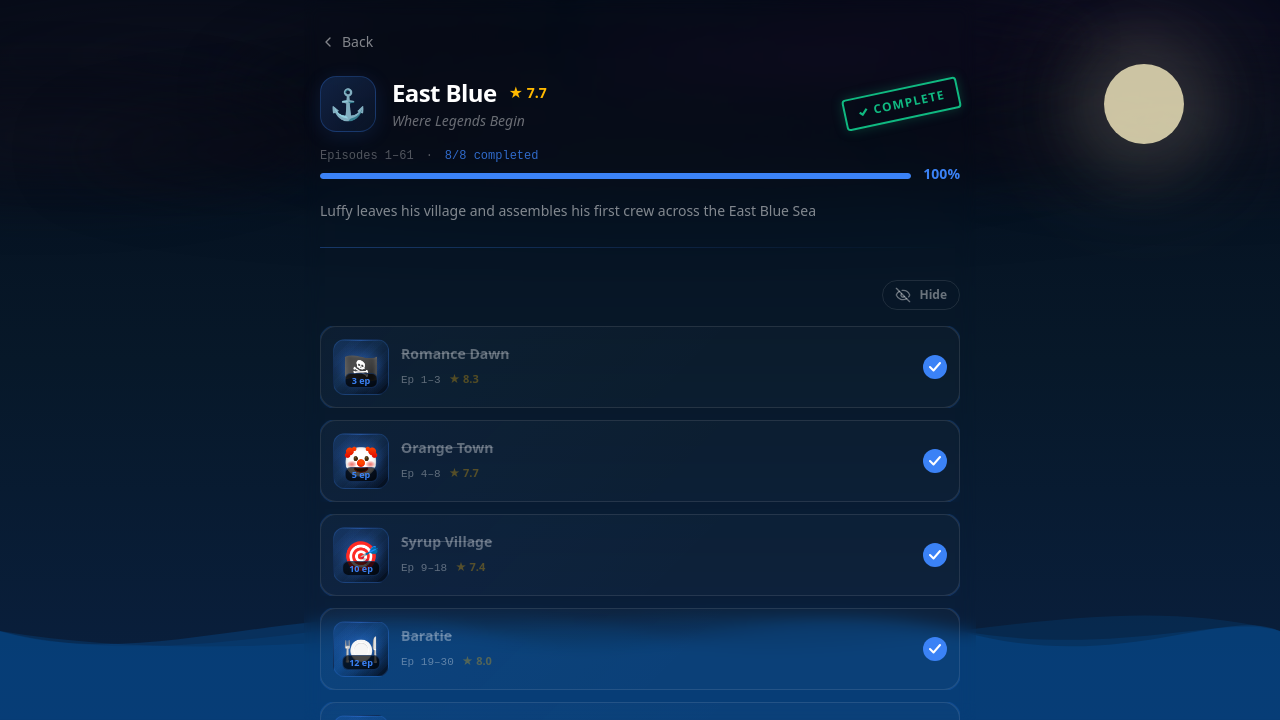
Test: app browser flows › renders a completed saga detail and hides watched arcs
The image size is (1280, 720).
Expected: the heading "East Blue" is shown, [392,77,496,109]
Expected: the text "✓ Complete" is shown, [841,76,962,132]
Click the button "Hide": (921, 295) [882,280,960,310]
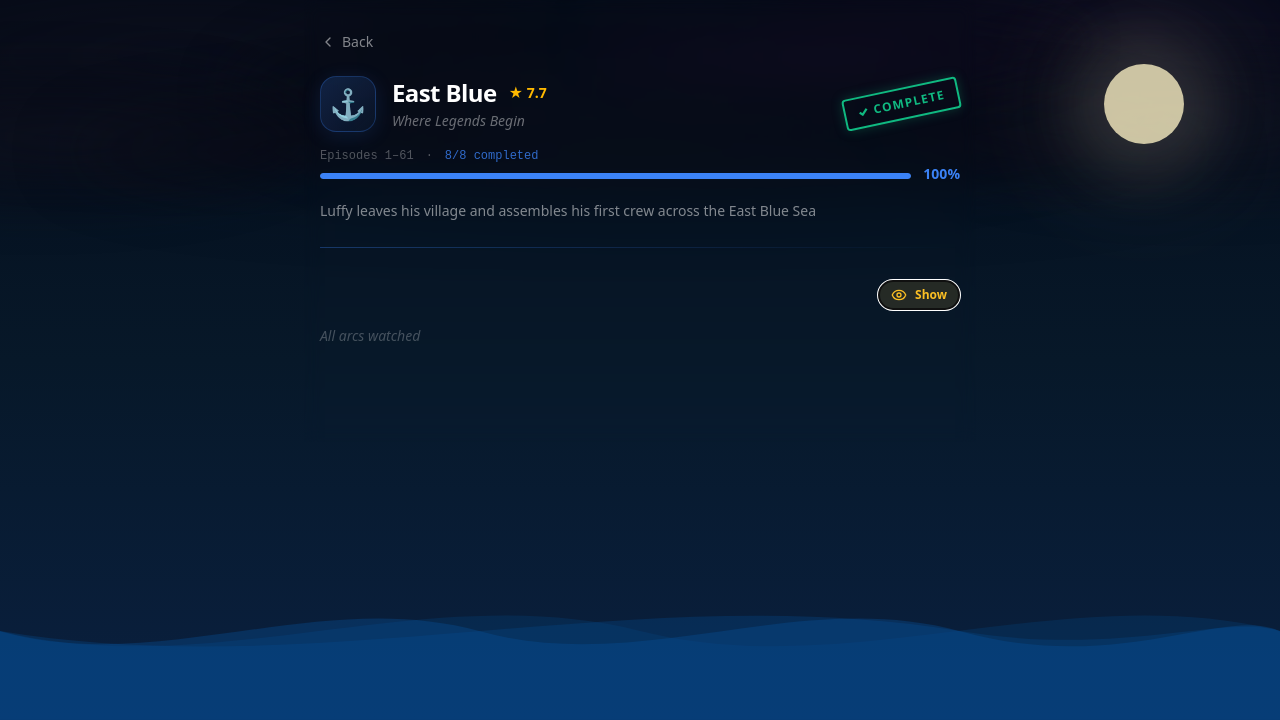
Now the text "All arcs watched" is shown, box [320,326,420,345]
